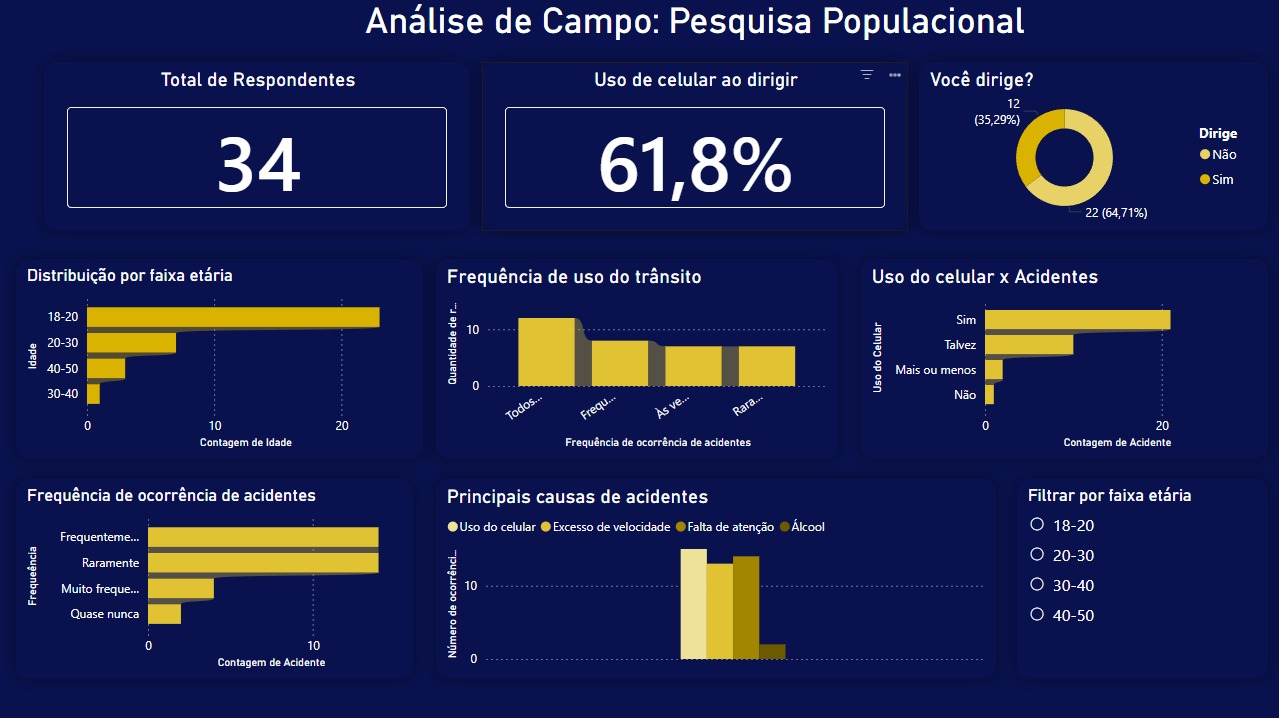

The page's visual inventory and layout, read from the dashboard file:
{"tool":"powerbi","page":{"name":"Página 1","canvas":[1280,720],"ordinal":0},"visuals":[{"type":"cardVisual","title":"Total de Respondentes","fields":{"Data":["CountNonNull(tabela de dados.Idade)"]},"box":[44,63,426,169],"z":0},{"type":"cardVisual","title":"Uso de celular ao dirigir","fields":{"Data":["tabela de dados.Perc_Usa_Celular"]},"box":[482,63,426,169],"z":1000},{"type":"barChart","title":"Distribuição por faixa etária","fields":{"Category":["tabela de dados.Idade"],"Y":["CountNonNull(tabela de dados.Idade)"]},"box":[16,260,407,200],"z":2000},{"type":"donutChart","title":"Você dirige?","fields":{"Category":["tabela de dados.Dirige"],"Y":["CountNonNull(tabela de dados.Dirige)"]},"box":[919,63,349,169],"z":3000},{"type":"columnChart","title":"Frequência de uso do trânsito","fields":{"Category":["tabela de dados.Freq_Transito"],"Y":["CountNonNull(tabela de dados.Freq_Transito)"]},"box":[436,260,402,200],"z":4000},{"type":"clusteredColumnChart","title":"Principais causas de acidentes","fields":{"Y":["Sum(tabela de dados.Uso_Celular)","Sum(tabela de dados.Excesso_Velocidade)","Sum(tabela de dados.Falta_Atencao)","Sum(tabela de dados.Alcool)"]},"box":[436,480,560,200],"z":5000},{"type":"barChart","title":"Uso do celular x Acidentes","fields":{"Category":["tabela de dados.Usa_Celular"],"Y":["CountNonNull(tabela de dados.Acidente)"]},"box":[861,260,407,200],"z":6000},{"type":"barChart","title":"Frequência de ocorrência de acidentes","fields":{"Category":["tabela de dados.Freq_Acidentes"],"Y":["CountNonNull(tabela de dados.Acidente)"]},"box":[16,480,397,200],"z":7000},{"type":"listSlicer","title":"Filtrar por faixa etária","fields":{"Values":["tabela de dados.Idade"]},"box":[1017,480,251,200],"z":8000},{"type":"textbox","title":"Análise de Campo: Pesquisa Populacional","box":[262,7,866,49],"z":9000}]}

Visuals, with their boxes in screenshot pixels (x1, y1, x2, y2), scaled from the page's 1280x720 canvas onto the 1279x718 screenshot:
"Total de Respondentes" cardVisual: [left=44, top=63, right=470, bottom=231]
"Uso de celular ao dirigir" cardVisual: [left=482, top=63, right=907, bottom=231]
"Distribuição por faixa etária" barChart: [left=16, top=259, right=423, bottom=459]
"Você dirige?" donutChart: [left=918, top=63, right=1267, bottom=231]
"Frequência de uso do trânsito" columnChart: [left=436, top=259, right=837, bottom=459]
"Principais causas de acidentes" clusteredColumnChart: [left=436, top=479, right=995, bottom=678]
"Uso do celular x Acidentes" barChart: [left=860, top=259, right=1267, bottom=459]
"Frequência de ocorrência de acidentes" barChart: [left=16, top=479, right=413, bottom=678]
"Filtrar por faixa etária" listSlicer: [left=1016, top=479, right=1267, bottom=678]
"Análise de Campo: Pesquisa Populacional" textbox: [left=262, top=7, right=1127, bottom=56]
